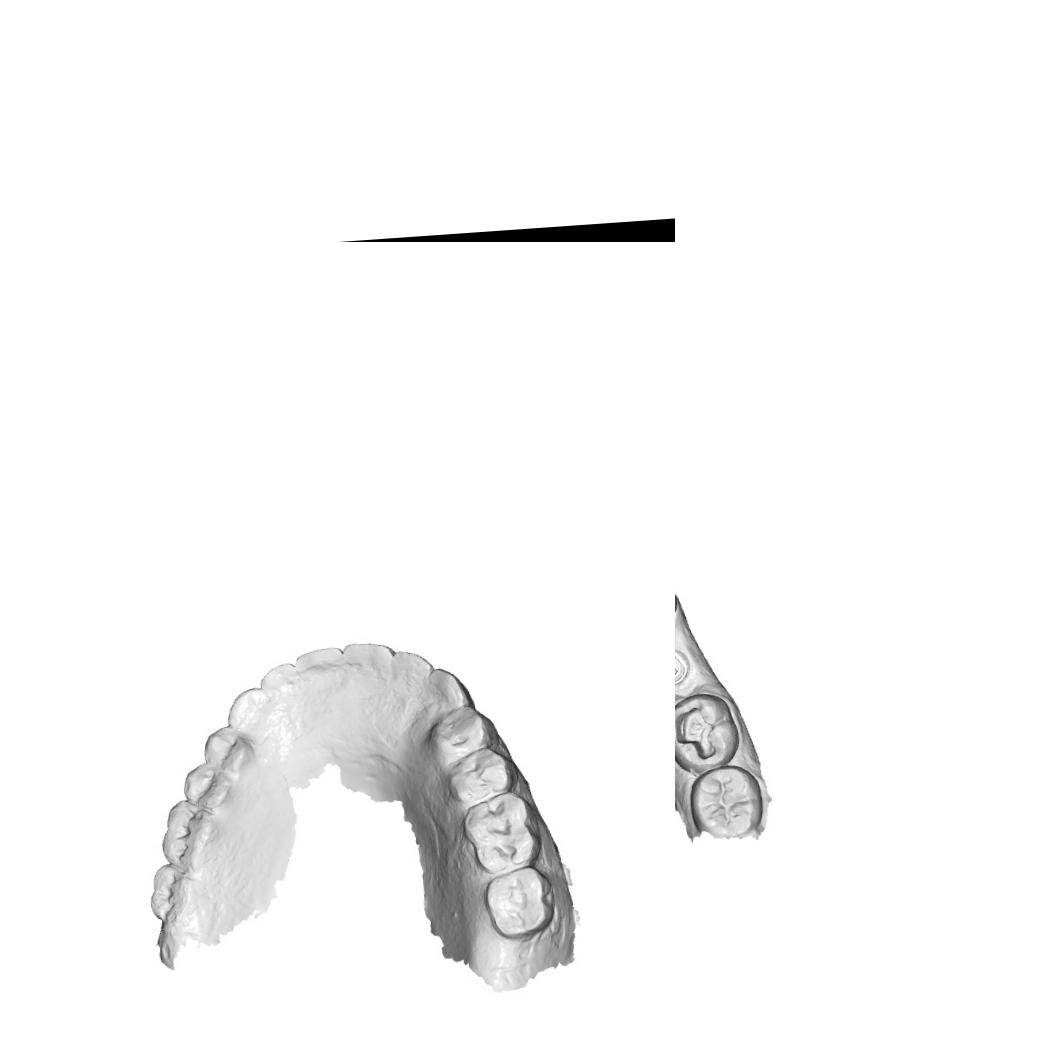canine: (222, 684, 278, 738), (425, 663, 475, 711)
implant_minus: (675, 645, 692, 689)
incisor: (292, 642, 346, 684), (341, 636, 395, 674), (389, 644, 434, 686), (256, 660, 297, 703)
inlay: (675, 702, 724, 764)
molar: (458, 788, 542, 878), (686, 762, 768, 840), (480, 864, 558, 940), (153, 795, 221, 864), (143, 858, 210, 924)
premolar: (423, 699, 502, 765), (443, 742, 519, 808), (199, 723, 258, 777), (179, 758, 234, 810)
